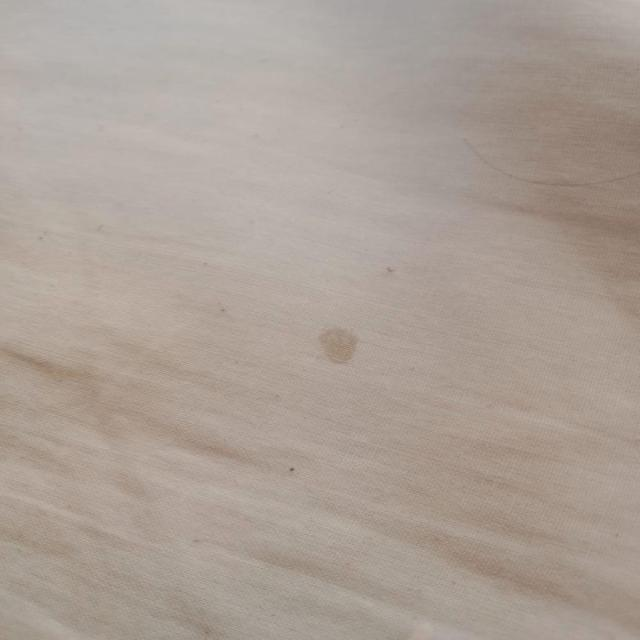stain: (308, 323, 368, 366)
